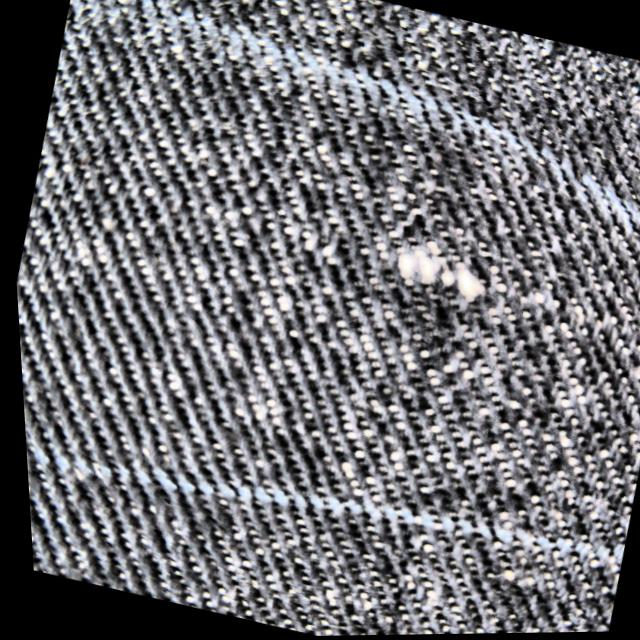Hole: (379, 243, 491, 304)
